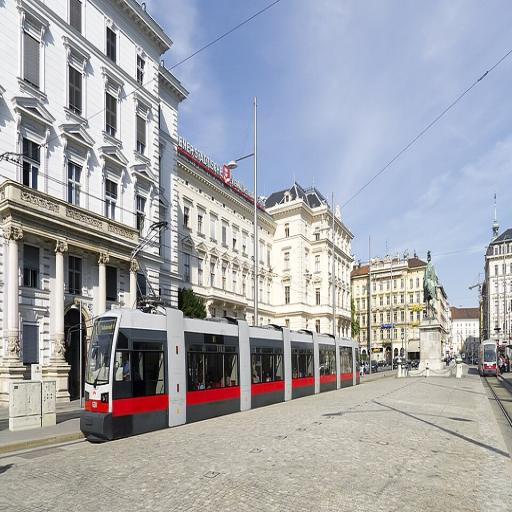ULF: (82, 298, 362, 448)
